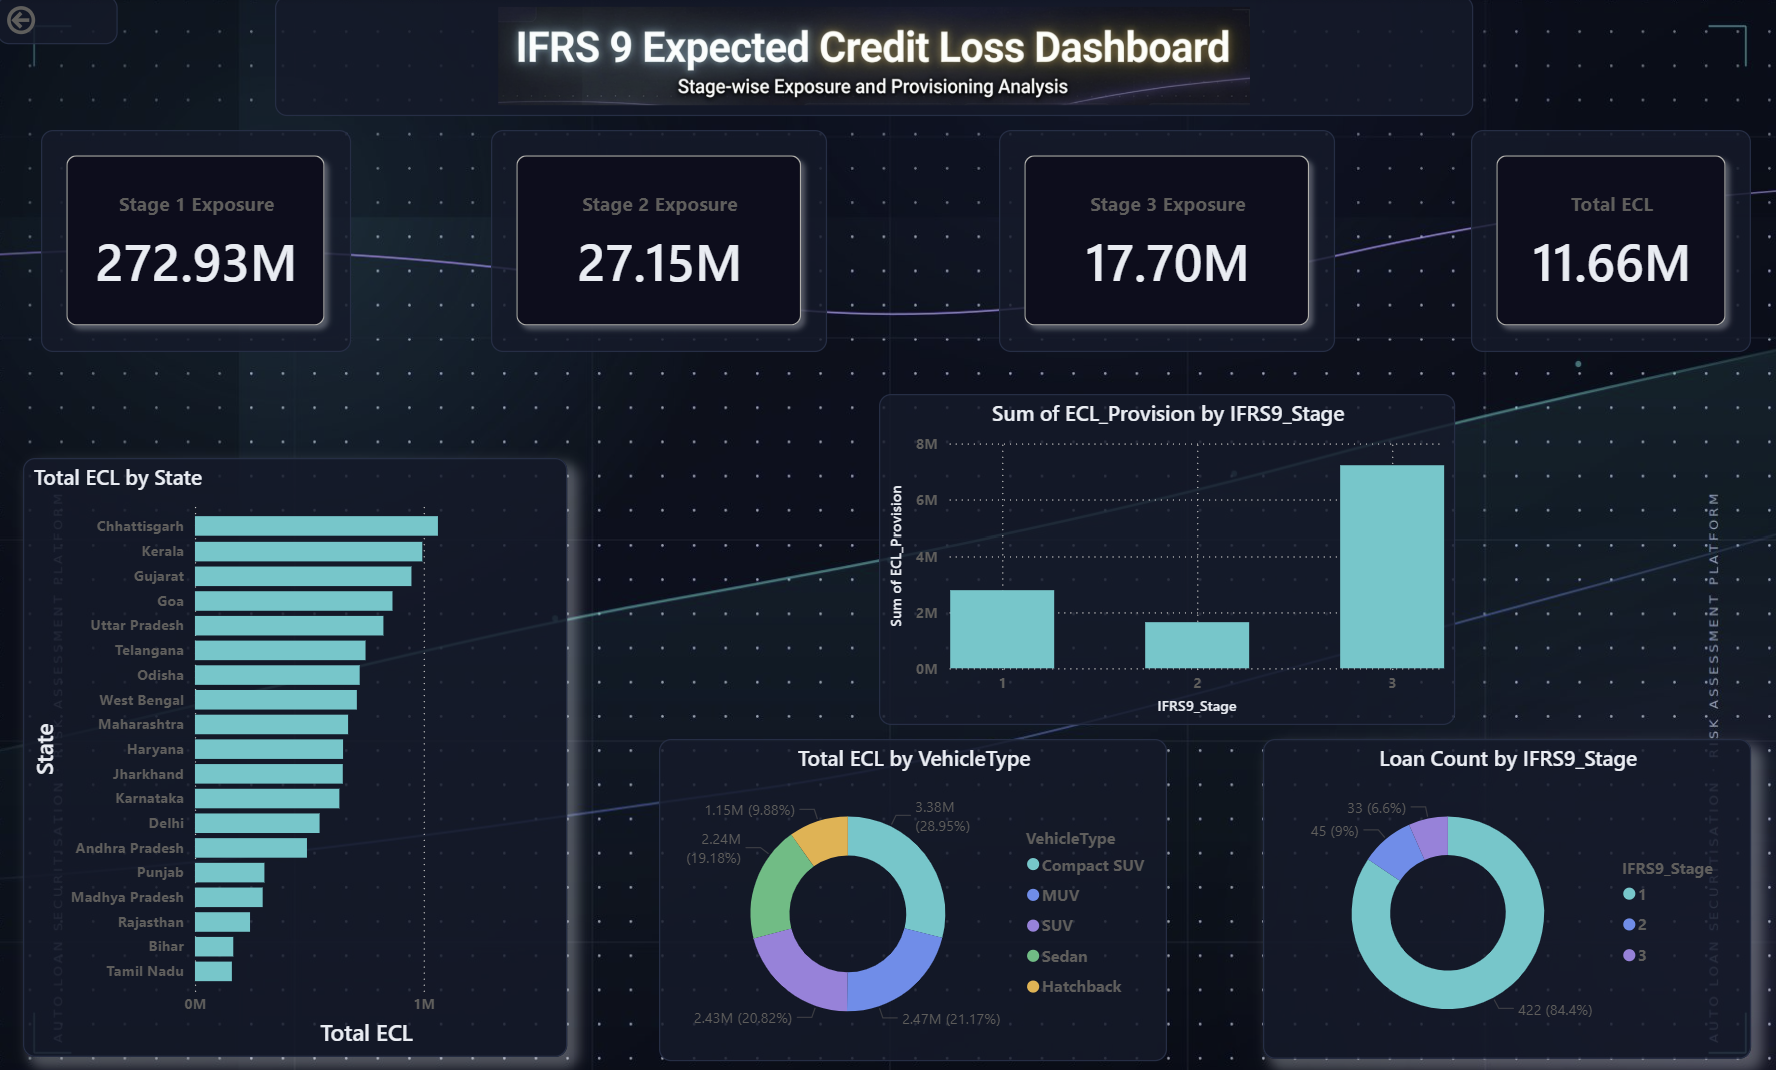

This screenshot's page, from the dashboard's own definition file:
{"tool":"powerbi","page":{"name":"Page 4","canvas":[1480,900],"ordinal":3},"visuals":[{"type":"cardVisual","fields":{"Data":["DateTable.Stage 1 Exposure"]},"box":[36.5,111,256.9,184],"z":0},{"type":"cardVisual","fields":{"Data":["DateTable.Stage 2 Exposure"]},"box":[409.4,111,278.5,184],"z":1000},{"type":"cardVisual","fields":{"Data":["DateTable.Stage 3 Exposure"]},"box":[830.4,111,278.5,184],"z":2000},{"type":"cardVisual","fields":{"Data":["DateTable.Total ECL"]},"box":[1221.5,111,232,184],"z":3000},{"type":"clusteredColumnChart","fields":{"Category":["auto_loan_securitisation_data.IFRS9_Stage"],"Y":["Sum(auto_loan_securitisation_data.ECL_Provision)"]},"box":[730.9,329.8,477.3,273.5],"z":4000},{"type":"clusteredBarChart","fields":{"Category":["auto_loan_securitisation_data.State"],"Y":["DateTable.Total ECL"]},"box":[21.5,382.9,450.8,495.6],"z":5000},{"type":"donutChart","fields":{"Y":["DateTable.Total ECL"],"Category":["auto_loan_securitisation_data.VehicleType"]},"box":[548.6,614.9,421,266.9],"z":6000},{"type":"donutChart","fields":{"Category":["auto_loan_securitisation_data.IFRS9_Stage"],"Y":["auto_loan_securitisation_data.Loan Count"]},"box":[1049.2,614.9,404.4,265.2],"z":7000},{"type":"image","box":[230.4,0,992.8,99.4],"z":8000},{"type":"actionButton","box":[0,0,100,40],"z":9000}]}

Visuals, with their boxes in screenshot pixels (x1, y1, x2, y2), scaled from the page's 1480x900 canvas onto the 1776x1070 screenshot:
cardVisual - DateTable.Stage 1 Exposure: select_region(44, 132, 352, 351)
cardVisual - DateTable.Stage 2 Exposure: select_region(491, 132, 825, 351)
cardVisual - DateTable.Stage 3 Exposure: select_region(996, 132, 1331, 351)
cardVisual - DateTable.Total ECL: select_region(1466, 132, 1744, 351)
clusteredColumnChart - auto_loan_securitisation_data.IFRS9_Stage x Sum(auto_loan_securitisation_data.ECL_Provision): select_region(877, 392, 1450, 717)
clusteredBarChart - auto_loan_securitisation_data.State x DateTable.Total ECL: select_region(26, 455, 567, 1044)
donutChart - DateTable.Total ECL x auto_loan_securitisation_data.VehicleType: select_region(658, 731, 1164, 1048)
donutChart - auto_loan_securitisation_data.IFRS9_Stage x auto_loan_securitisation_data.Loan Count: select_region(1259, 731, 1744, 1046)
image: select_region(276, 0, 1468, 118)
actionButton: select_region(0, 0, 120, 48)
